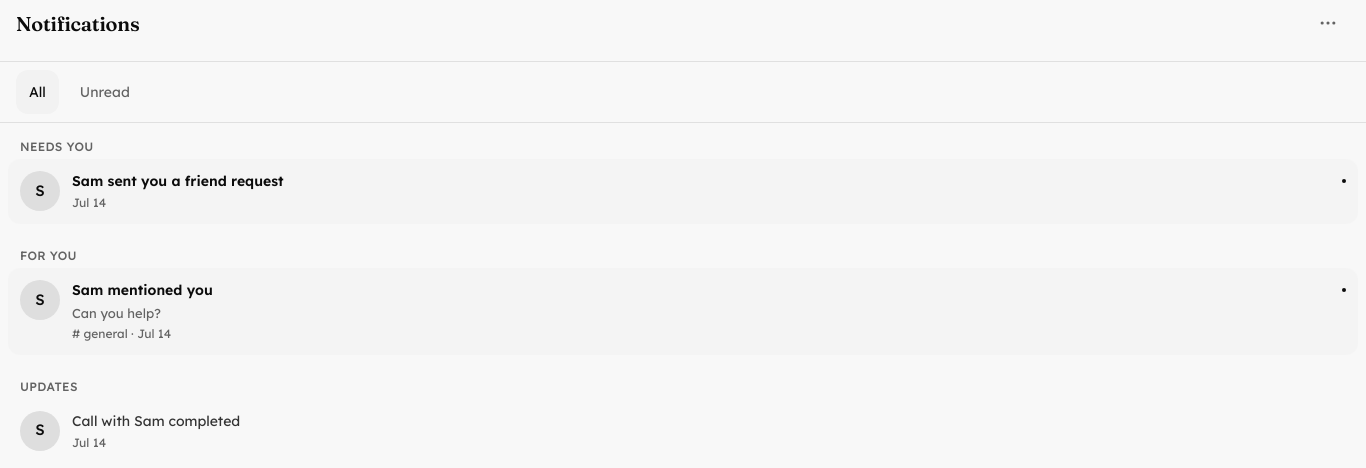
NotificationList › filters to unread without adding category choices
Click the button "Unread" at (105, 92), box [67, 70, 143, 114]
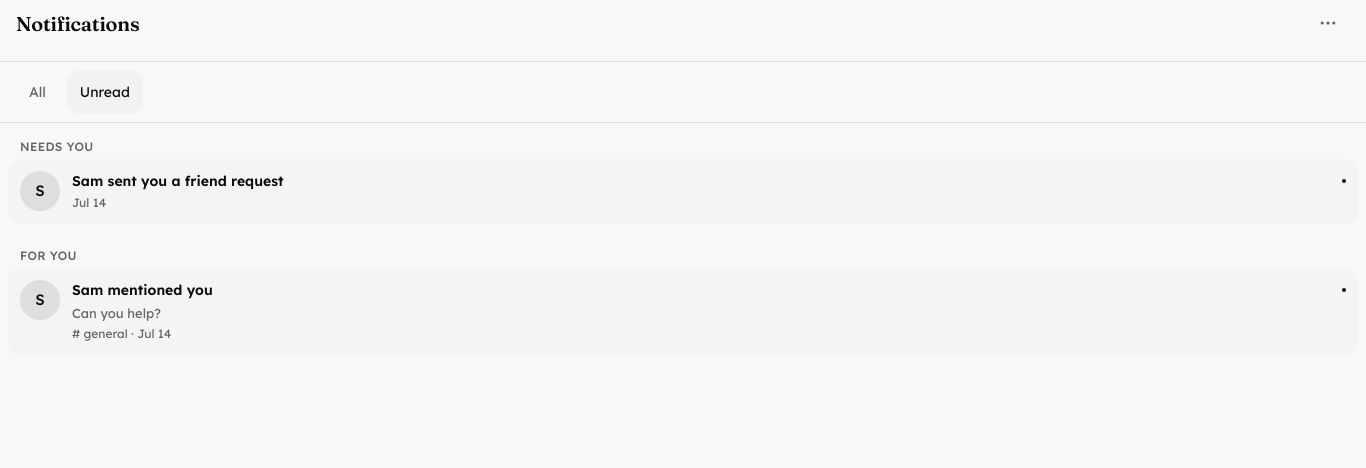
Expected: the text "Sam mentioned you" is shown, [72, 281, 213, 299]
Expected: the button "Call with Sam completed" is gone
